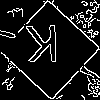K: (25, 25, 60, 72)
